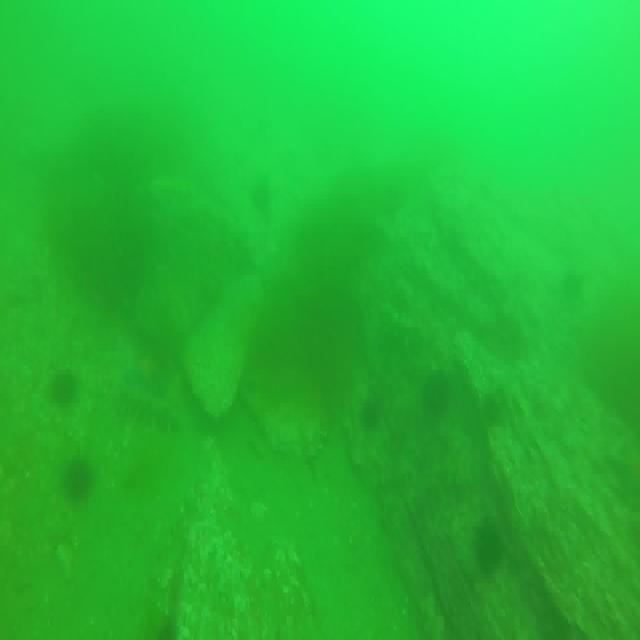echinus: (478, 516, 504, 576), (422, 376, 450, 417), (252, 175, 276, 219), (66, 458, 89, 503), (52, 371, 76, 413), (360, 394, 381, 427)
holothurian: (119, 384, 182, 434)
